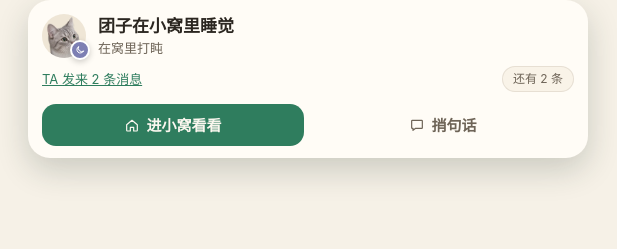
提醒的先后与收起（方案 3.2：收起时只显示最重要的一条） › 收起时只显示第一条，后面跟“还有 N 条”；点开看全部、再点收起；读屏从分组名读到一共几条
What coordinates should you click on to do the following:
click the button "还有 2 条"
I would click on:
 (538, 79)
Its box is [502,66,574,92].
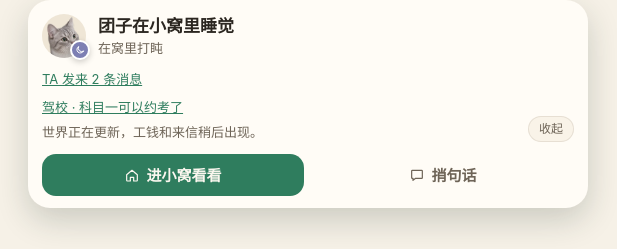
Expected: the button "收起" is expanded
What coordinates should you click on to do the following:
click the button "收起"
I would click on:
 (551, 129)
Its box is [528,116,574,142].
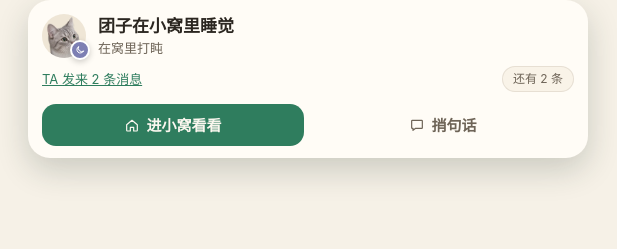
Expected: the button "还有 2 条" is shown, [502,66,574,92]
